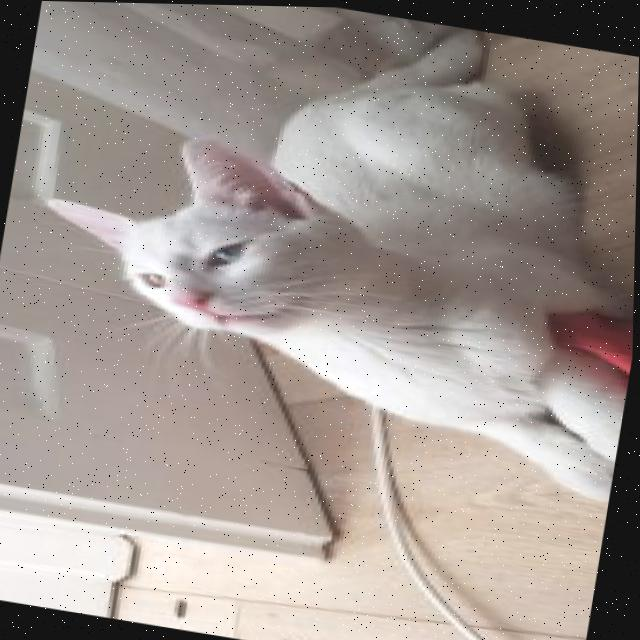Khao Manee: (3, 0, 640, 499)
